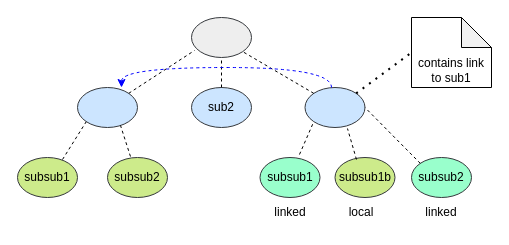
This 509x245 diagram has some shape labels left out. The centre of each missing label's shape, as x and y in pixels:
root: (221,37)
sub1: (107,107)
sub3: (334,107)
